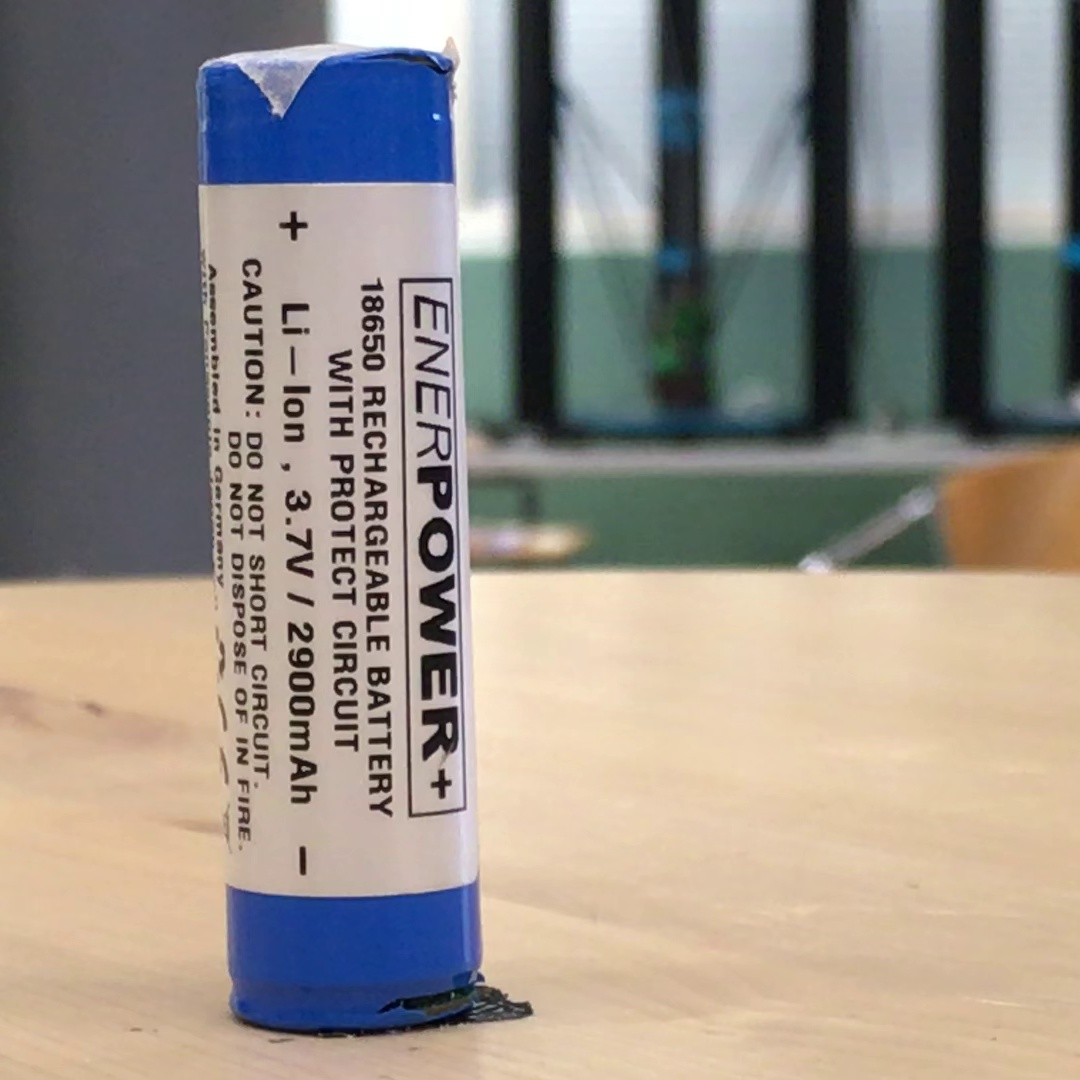keyword: (275, 480, 324, 586)
